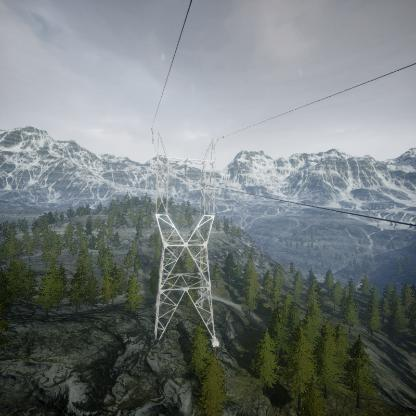tower: (147, 123, 226, 352)
